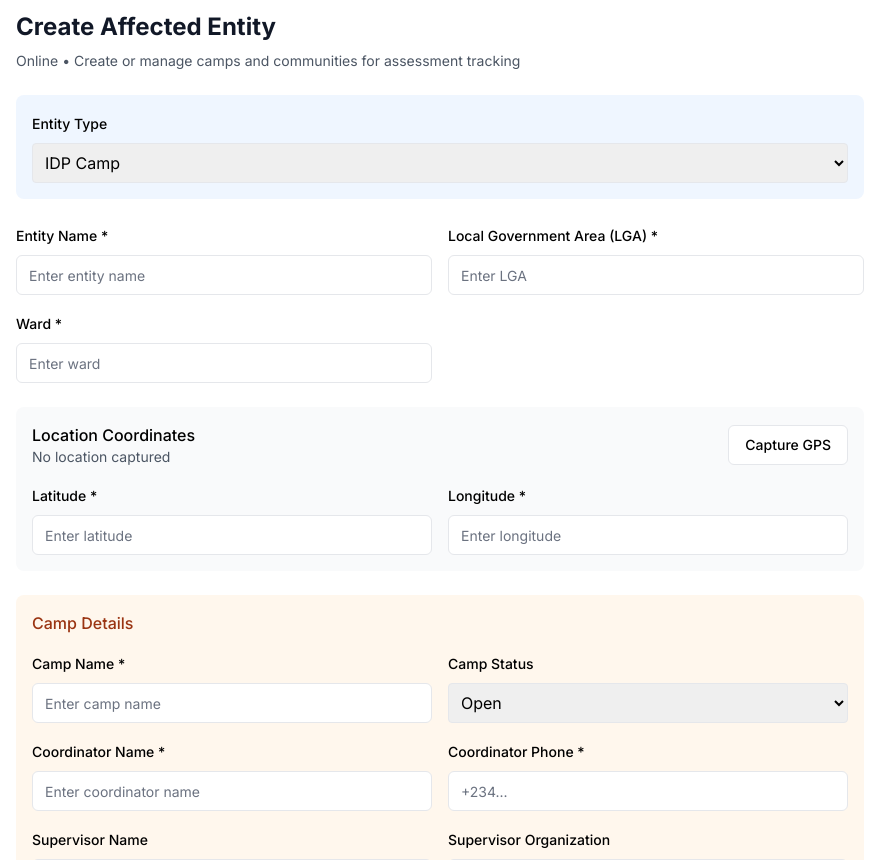
Test: EntityManagementForm › validates GPS coordinates
Note: Invalid coordinates
In the number field labelled "Latitude *": coordinates (232, 535) [32, 515, 432, 555], type "91"
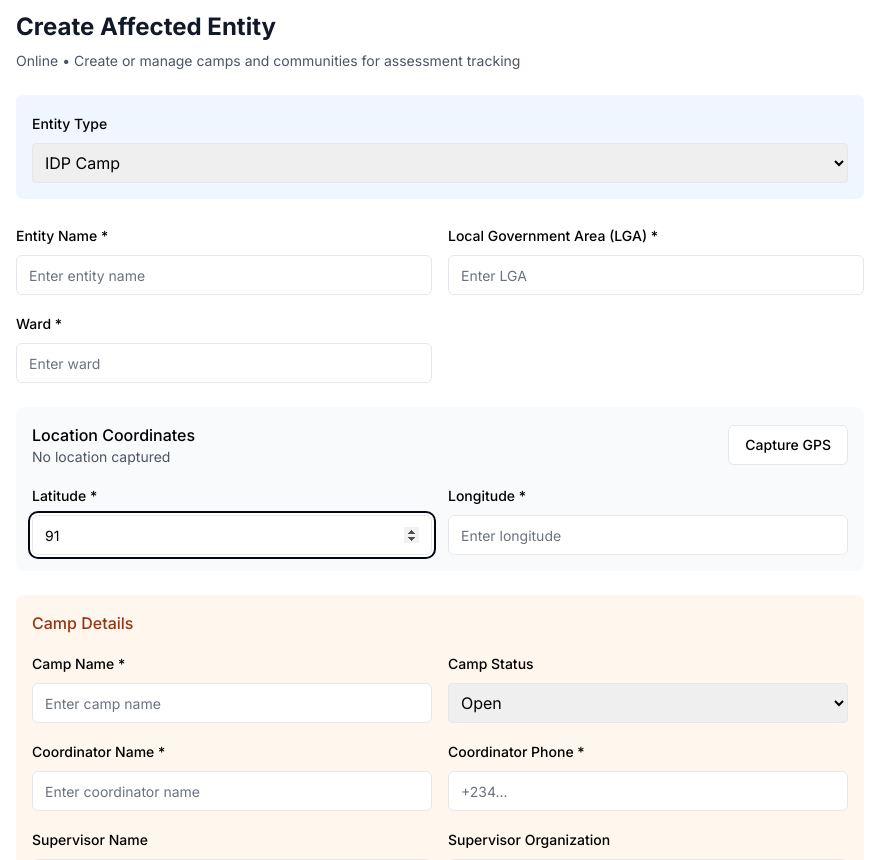
In the number field labelled "Longitude *": coordinates (648, 535) [448, 515, 848, 555], type "181"
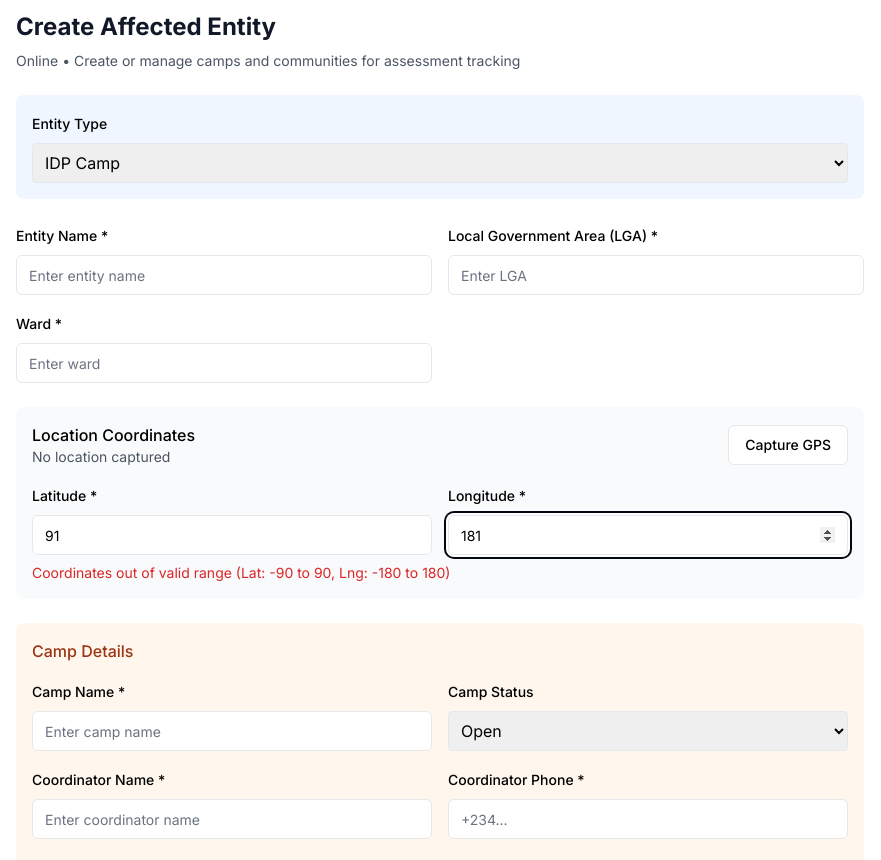
Result: the text "Coordinates out of valid range" is shown at [32, 564, 450, 581]
Note: Clear and add valid coordinates
Clear the number field labelled "Latitude *": coordinates (232, 535) [32, 515, 432, 555]
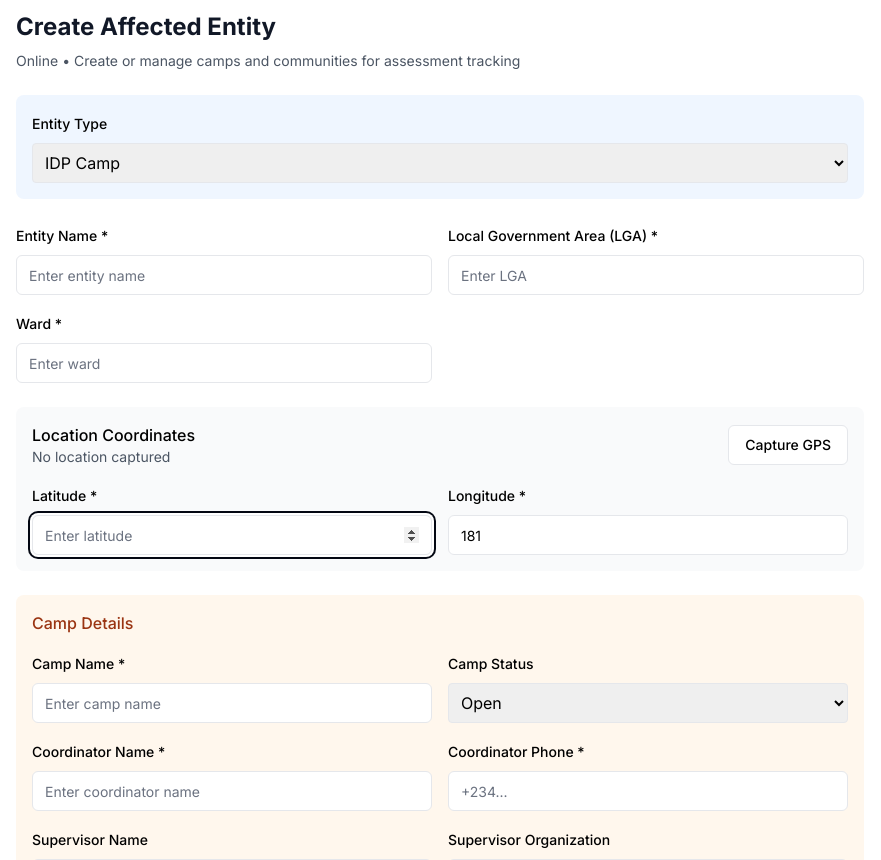
Clear the number field labelled "Longitude *": coordinates (648, 535) [448, 515, 848, 555]
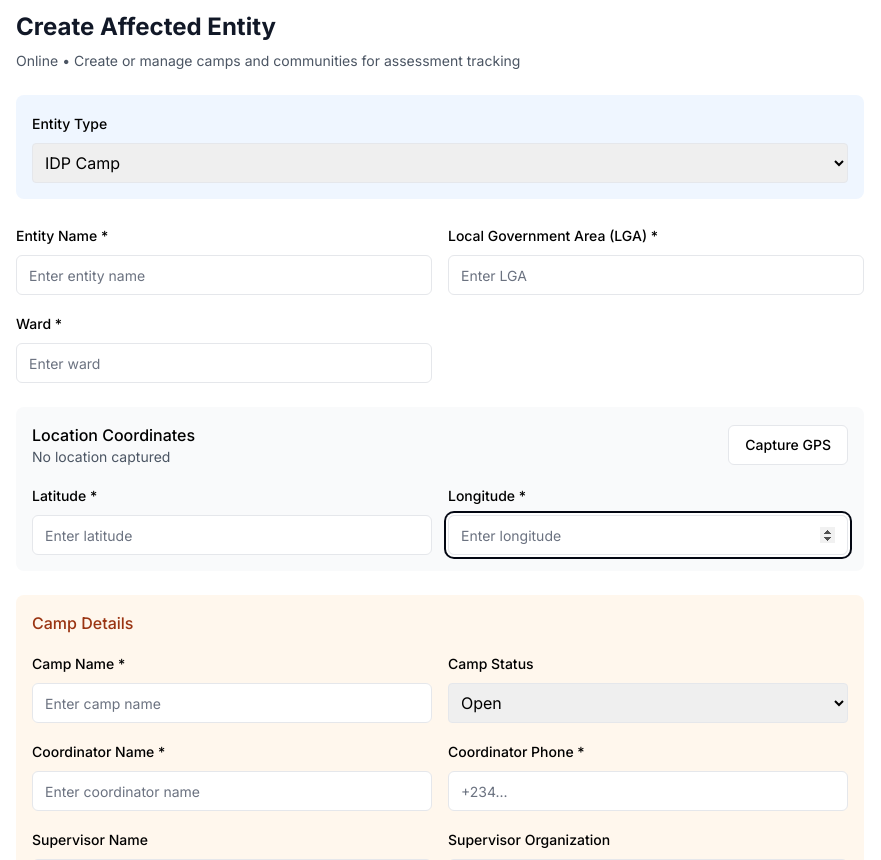
In the number field labelled "Latitude *": coordinates (232, 535) [32, 515, 432, 555], type "11.8469"
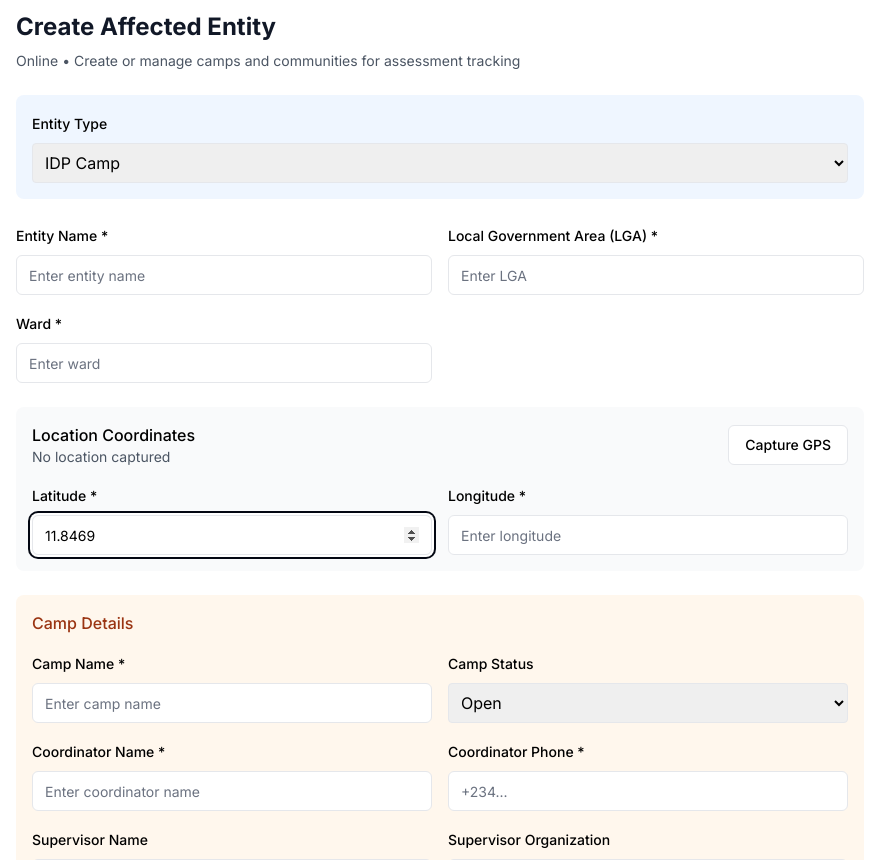
In the number field labelled "Longitude *": coordinates (648, 535) [448, 515, 848, 555], type "13.1511"
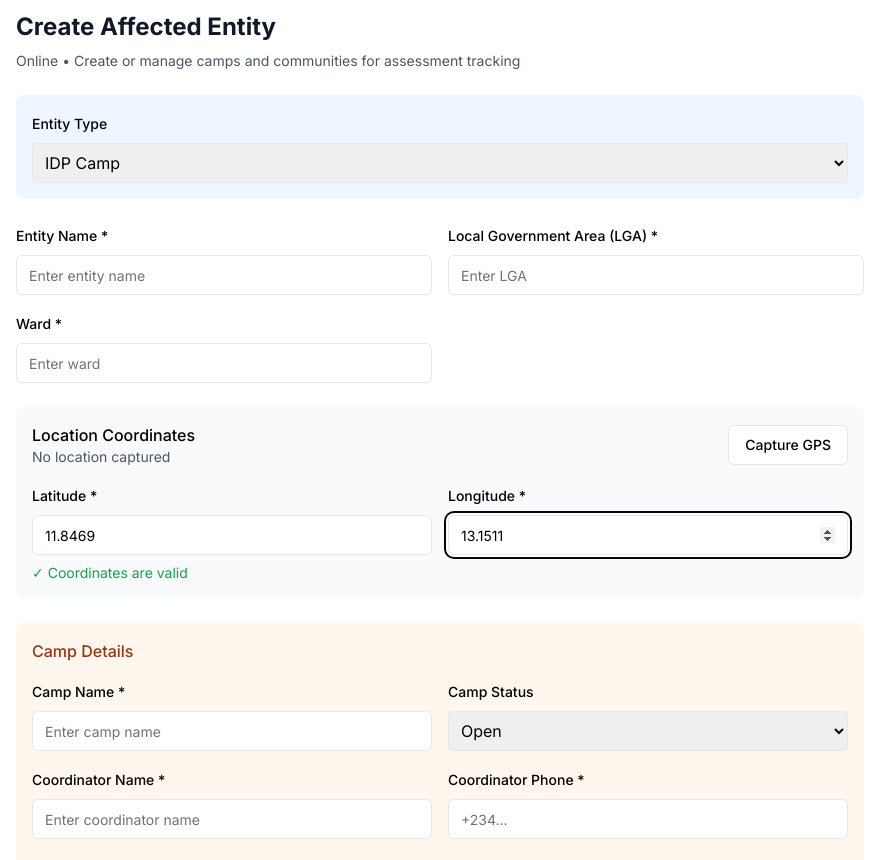
Result: the text "✓ Coordinates are valid" is shown at [32, 564, 188, 581]
